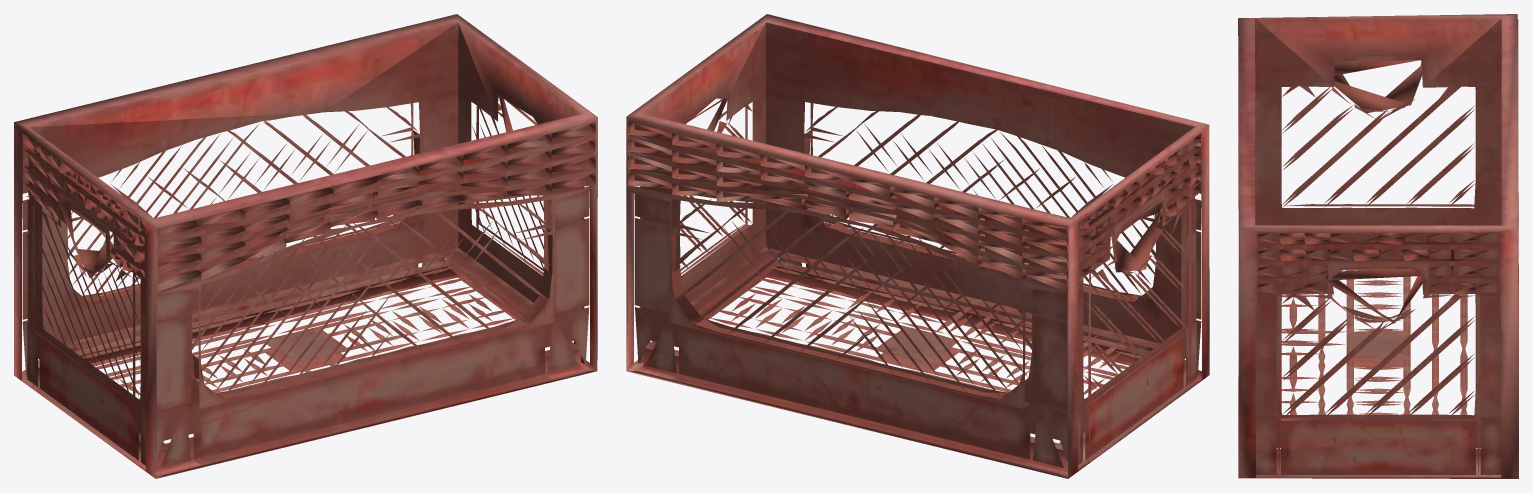
The model's file is plastic_crate_03.glb.
3 renders of one model, left to right at view 1: azimuth 30°, elevation 25°; view 2: azimuth 150°, elevation 25°; view 3: azimuth 270°, elevation 25°, orthographic.
Visible parts, largest first — view 1: plastic_crate_03; view 2: plastic_crate_03; view 3: plastic_crate_03.
Part boxes in pixels (x1=…): plastic_crate_03: x1=14, y1=14, x2=597, y2=478; plastic_crate_03: x1=626, y1=14, x2=1209, y2=478; plastic_crate_03: x1=1238, y1=14, x2=1518, y2=478.
Size of the model in its own units: 0.4811 by 0.2644 by 0.2663.
1 material, 1 textured.
